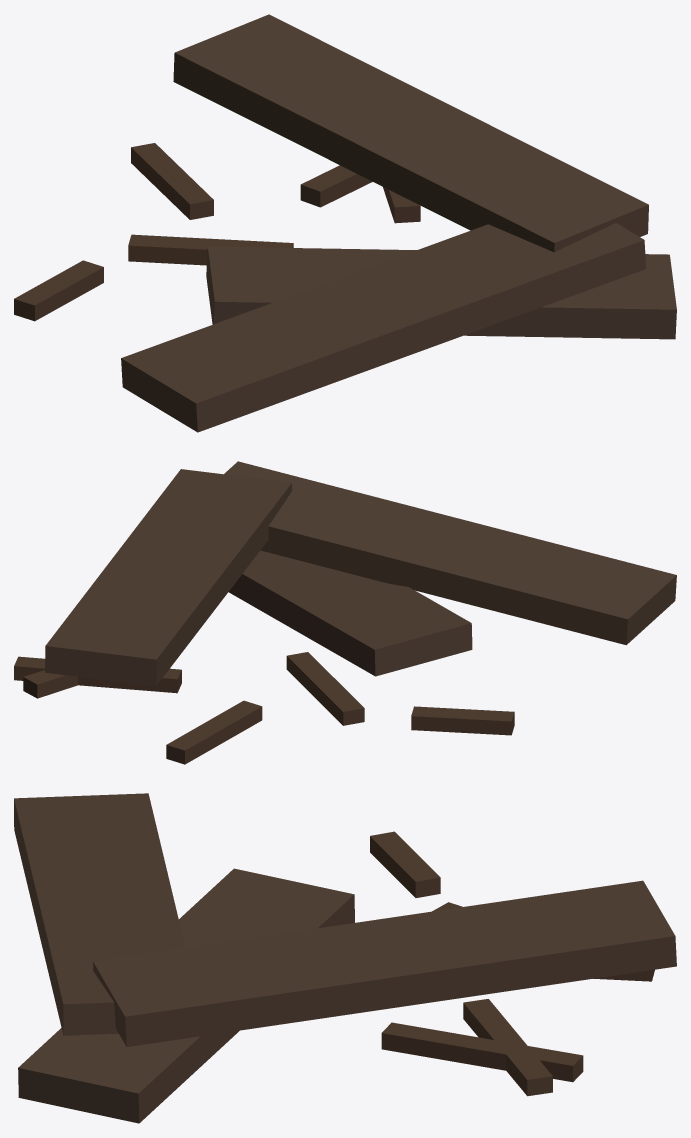
File: kit_scatter_debris.glb
The picture shows the model from 3 angles, top to bottom: view 1: azimuth 30°, elevation 25°; view 2: azimuth 150°, elevation 25°; view 3: azimuth 270°, elevation 25°; orthographic projection. The views are drawn at different scales.
Visible parts, largest first — view 1: kit_scatter_debris; view 2: kit_scatter_debris; view 3: kit_scatter_debris.
Part boxes in pixels (x1,y1,x2,y2): kit_scatter_debris: (14, 14, 676, 432); kit_scatter_debris: (14, 461, 676, 764); kit_scatter_debris: (14, 793, 676, 1123).
Bounding box in the file's own units: 0.2879 × 0.0575 × 0.2945.
